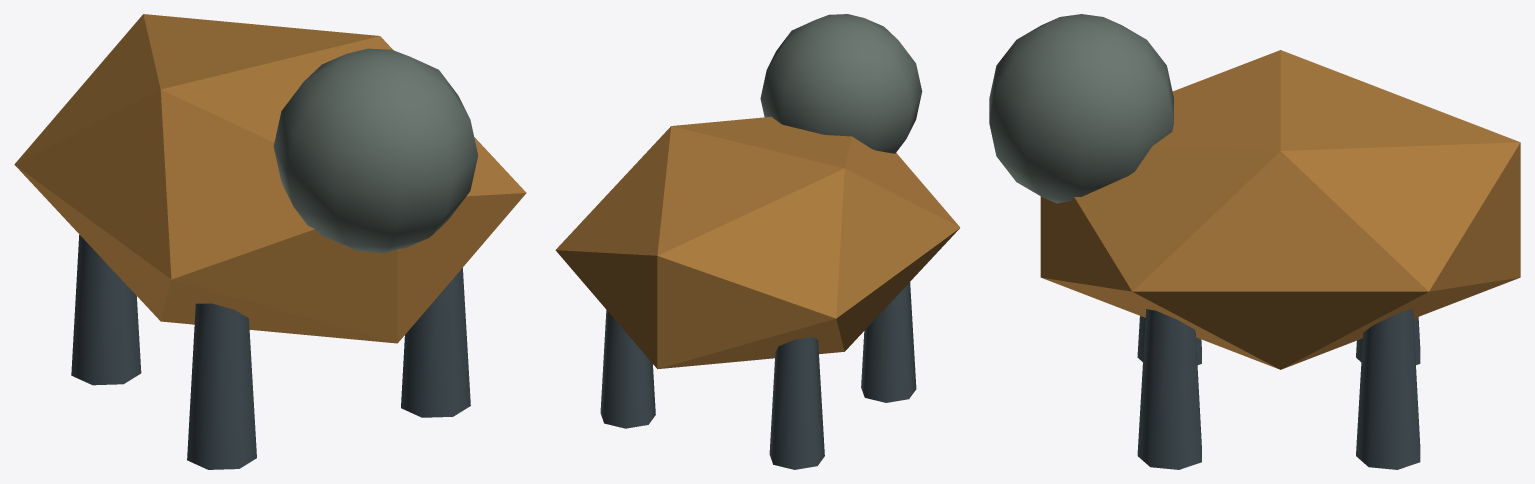
The model's file is gear_mouse.glb.
The picture shows the model from 3 angles, left to right: view 1: azimuth 30°, elevation 25°; view 2: azimuth 150°, elevation 25°; view 3: azimuth 270°, elevation 25°; orthographic projection. The views are drawn at different scales.
Visible parts, largest first — view 1: body_core, head_core, leg_-1_1, leg_-1_-1, leg_1_1; view 2: body_core, head_core, leg_-1_-1, leg_-1_1, leg_1_-1; view 3: body_core, head_core, leg_1_1, leg_1_-1.
Boxes of the visible parts, x1=… form: body_core: x1=14, y1=14, x2=526, y2=343; head_core: x1=273, y1=48, x2=478, y2=253; leg_-1_1: x1=187, y1=303, x2=256, y2=469; leg_-1_-1: x1=71, y1=234, x2=141, y2=385; leg_1_1: x1=401, y1=268, x2=470, y2=417; body_core: x1=555, y1=116, x2=960, y2=369; head_core: x1=760, y1=14, x2=922, y2=153; leg_-1_-1: x1=769, y1=337, x2=824, y2=469; leg_-1_1: x1=861, y1=282, x2=916, y2=402; leg_1_-1: x1=600, y1=310, x2=655, y2=428; body_core: x1=1040, y1=50, x2=1520, y2=369; head_core: x1=989, y1=14, x2=1173, y2=203; leg_1_1: x1=1137, y1=309, x2=1201, y2=469; leg_1_-1: x1=1356, y1=309, x2=1420, y2=469.
Size of what is drawn, in the model's own units: 1.59 by 1.75 by 2.19.
